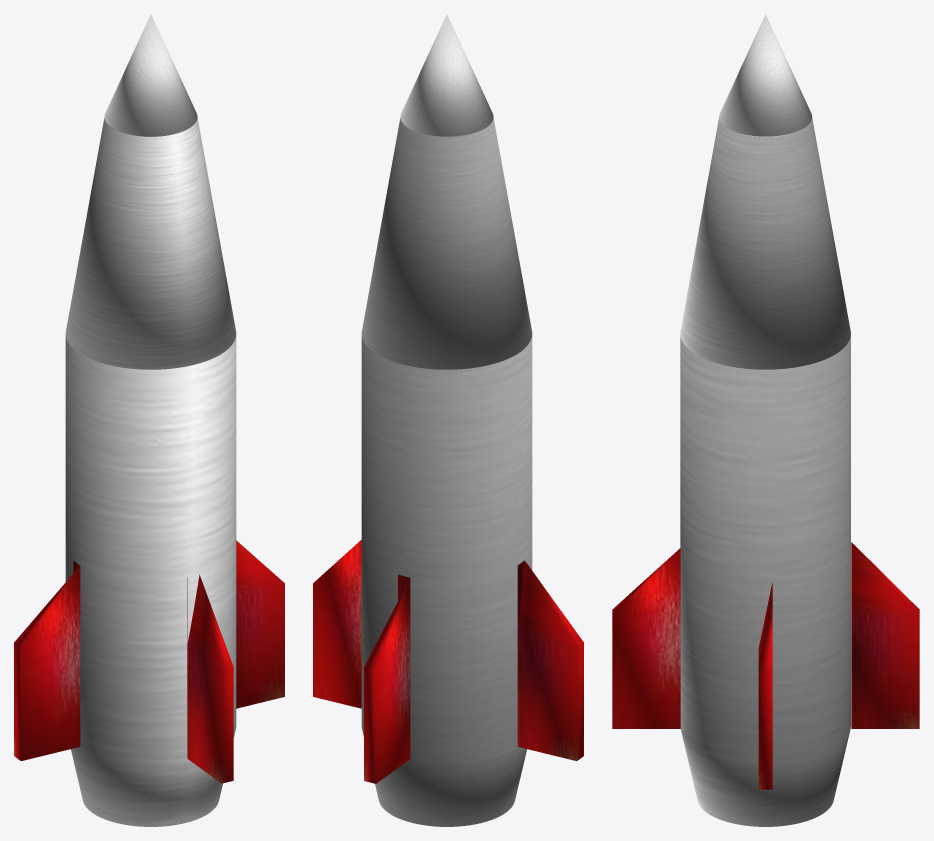
File: racheta.fbx
3 views of the same model, side by side, from view 1: azimuth 30°, elevation 25°; view 2: azimuth 150°, elevation 25°; view 3: azimuth 270°, elevation 25° (orthographic).
Parts seen in each view (by area): view 1: Cylinder, Cylinder.001, Cube.001, Cube.003, Cube, Cone; view 2: Cylinder, Cylinder.001, Cube.001, Cube.002, Cube, Cone; view 3: Cylinder, Cylinder.001, Cube.002, Cube.003, Cone, Cube.
Part boxes in pixels (box(x1,y1,x2,y2)): Cylinder: box(65, 335, 236, 826); Cylinder.001: box(65, 118, 236, 369); Cube.001: box(14, 561, 80, 760); Cube.003: box(187, 574, 233, 783); Cube: box(236, 540, 284, 708); Cone: box(104, 14, 197, 136); Cylinder: box(361, 335, 532, 826); Cylinder.001: box(361, 118, 532, 369); Cube.001: box(517, 560, 583, 760); Cube.002: box(364, 574, 410, 783); Cube: box(313, 540, 361, 708); Cone: box(400, 14, 493, 136); Cylinder: box(680, 335, 850, 826); Cylinder.001: box(680, 118, 850, 369); Cube.002: box(851, 542, 919, 728); Cube.003: box(612, 548, 680, 728); Cone: box(719, 14, 812, 136); Cube: box(758, 583, 772, 789).
Bounding box in the file's own units: 892 × 2533 × 900.
